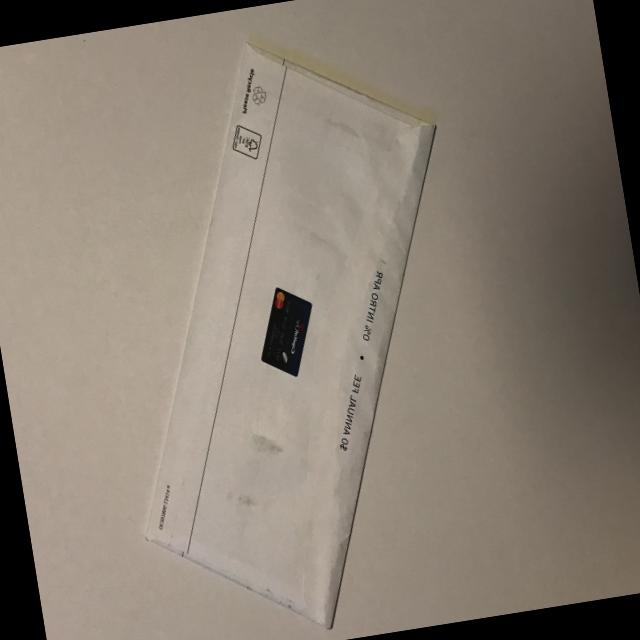Paper: (62, 6, 517, 640)
